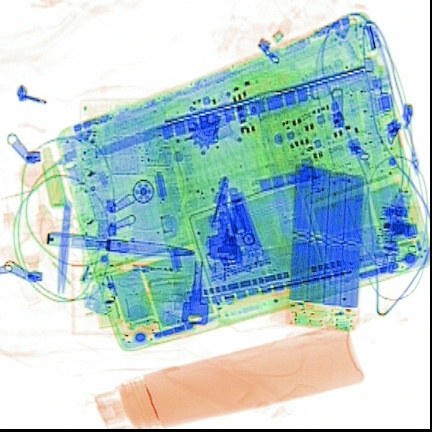powerbank: (284, 160, 367, 333)
